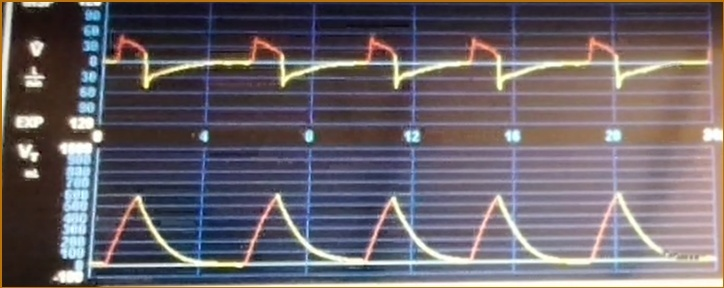Normal Flow: (107, 17, 712, 103)
Normal Volume: (96, 181, 716, 274)
